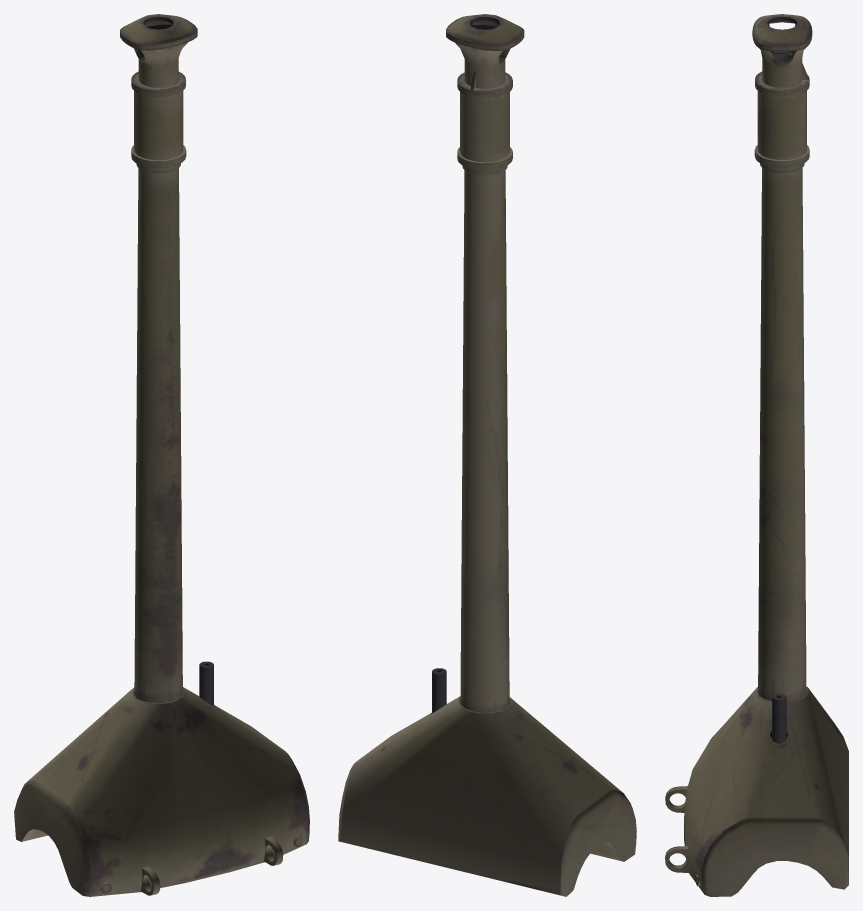
Rendered from Gun_02.glb.
3 views of the same model, side by side, from view 1: azimuth 30°, elevation 25°; view 2: azimuth 150°, elevation 25°; view 3: azimuth 270°, elevation 25° (orthographic).
Parts seen in each view (by area): view 1: set_0_group_0; view 2: set_0_group_0; view 3: set_0_group_0.
Part boxes in pixels (bbox=[...]): set_0_group_0: bbox=[14, 14, 309, 896]; set_0_group_0: bbox=[338, 14, 636, 896]; set_0_group_0: bbox=[665, 14, 848, 896].
Bounding box in the file's own units: 0.923 × 3.19 × 0.6481.
Materials: 1 (1 with a texture image).
